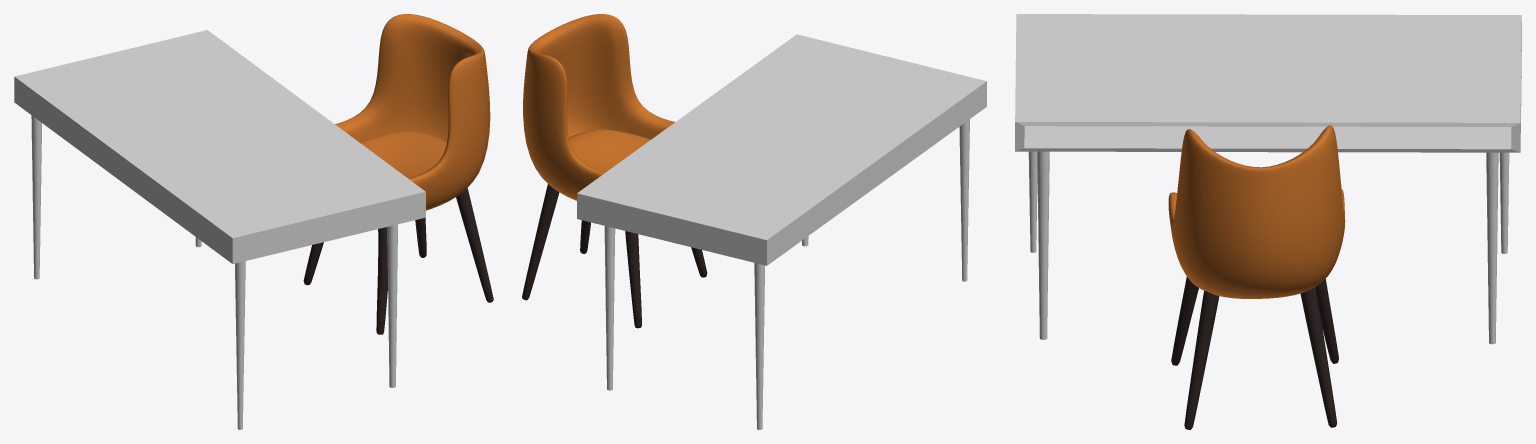
Rendered from chair+table.fbx.
3 renders of one model, left to right at view 1: azimuth 30°, elevation 25°; view 2: azimuth 150°, elevation 25°; view 3: azimuth 270°, elevation 25°, orthographic. The views are drawn at different scales.
Parts seen in each view (by area): view 1: Cube.009, Plane.001, Plane.003, Cylinder.001, Cylinder.003, Cylinder.002, Cube.012, Cube.010; view 2: Cube.009, Plane.001, Plane.003, Cylinder.002, Cylinder, Cylinder.003, Cube.013, Cube.011; view 3: Cube.009, Plane.001, Cylinder.001, Cylinder, Cube.013, Cube.012, Cube.010, Cube.011, Cylinder.002, Cylinder.003.
Part boxes in pixels (<box>): Cube.009: <box>14,30,425,263</box>; Plane.001: <box>335,14,490,210</box>; Plane.003: <box>359,131,446,177</box>; Cylinder.001: <box>387,224,397,387</box>; Cylinder.003: <box>235,261,245,429</box>; Cylinder.002: <box>31,115,41,279</box>; Cube.012: <box>456,188,493,302</box>; Cube.010: <box>376,227,387,334</box>; Cube.009: <box>577,34,986,265</box>; Plane.001: <box>523,14,674,200</box>; Plane.003: <box>569,129,650,171</box>; Cylinder.002: <box>754,263,764,429</box>; Cylinder: <box>604,226,615,390</box>; Cylinder.003: <box>959,119,969,281</box>; Cube.013: <box>522,184,559,300</box>; Cube.011: <box>625,231,641,328</box>; Cube.009: <box>1015,14,1521,152</box>; Plane.001: <box>1168,125,1345,298</box>; Cylinder.001: <box>1037,151,1049,339</box>; Cylinder: <box>1486,152,1498,344</box>; Cube.013: <box>1300,287,1336,427</box>; Cube.012: <box>1184,291,1219,429</box>; Cube.010: <box>1171,276,1198,365</box>; Cube.011: <box>1315,279,1338,363</box>; Cylinder.002: <box>1499,152,1509,253</box>; Cylinder.003: <box>1028,151,1037,252</box>.
Bounding box in the file's own units: 306 × 207 × 330.
